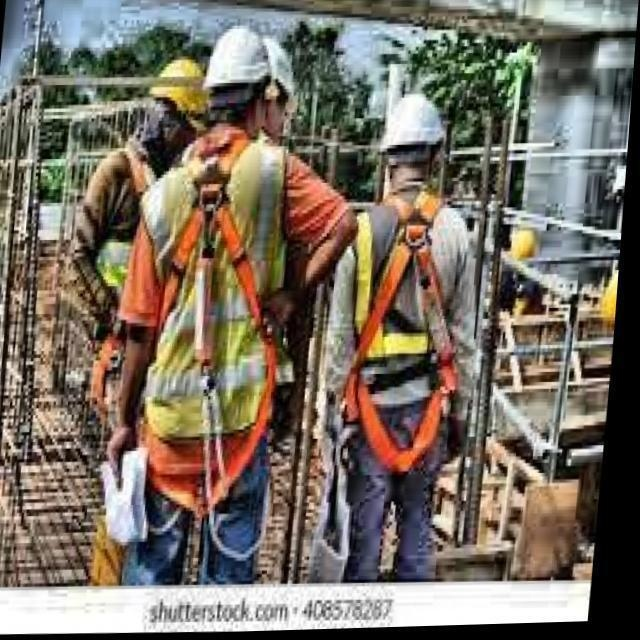Arnes_seguridad: (153, 143, 281, 489), (343, 193, 459, 473)
